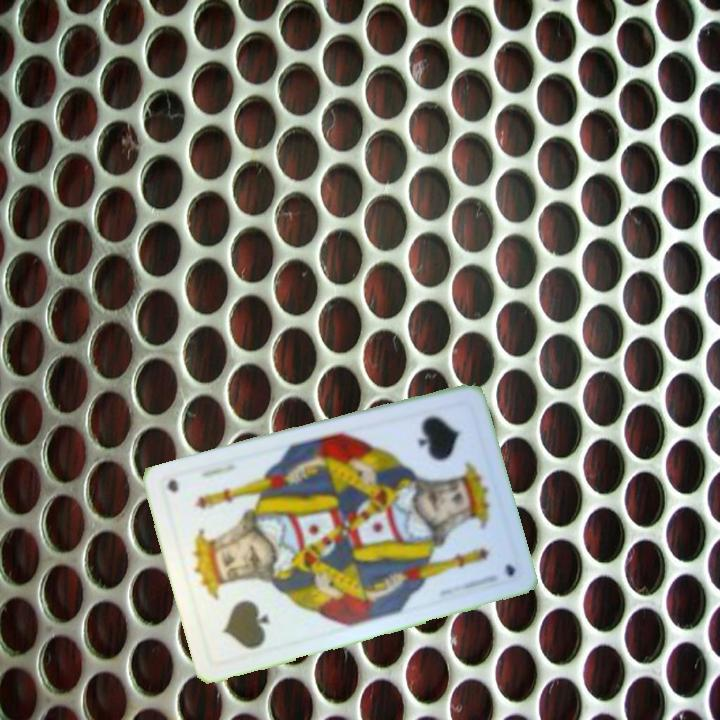s_k.png: (385, 393, 494, 512), (184, 549, 293, 667)
